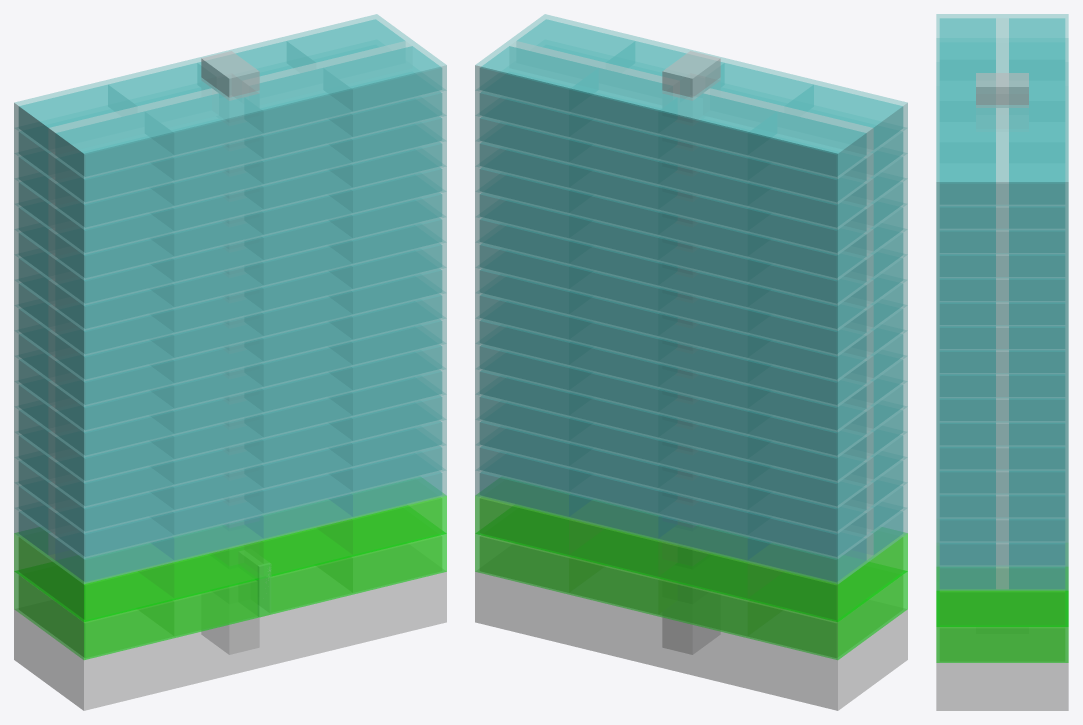
File: TowerElevation.glb
3 views of the same model, side by side, from view 1: azimuth 30°, elevation 25°; view 2: azimuth 150°, elevation 25°; view 3: azimuth 270°, elevation 25° (orthographic). The views are drawn at different scales.
Parts seen in each view (by area): view 1: 3586_mesh, 3022_mesh, 3043_mesh, 3025_mesh, 3058_mesh, 3124_mesh, 3157_mesh, 3553_mesh, 3223_mesh, 3256_mesh, 3355_mesh, 3487_mesh (+92 smaller); view 2: 3586_mesh, 3022_mesh, 3025_mesh, 3043_mesh, 3058_mesh, 3124_mesh, 3157_mesh, 3553_mesh, 3223_mesh, 3256_mesh, 3355_mesh, 3487_mesh (+91 smaller); view 3: 3586_mesh, 3022_mesh, 3025_mesh, 3043_mesh, 3553_mesh, 3040_mesh, 3055_mesh, 3256_mesh, 3289_mesh, 3322_mesh, 3355_mesh, 3388_mesh (+69 smaller).
Part boxes in pixels (bbox=[...]): 3586_mesh: bbox=[14, 14, 446, 178]; 3022_mesh: bbox=[14, 569, 446, 710]; 3043_mesh: bbox=[14, 493, 446, 621]; 3025_mesh: bbox=[14, 531, 446, 659]; 3058_mesh: bbox=[14, 467, 446, 583]; 3124_mesh: bbox=[14, 417, 446, 533]; 3157_mesh: bbox=[14, 392, 446, 507]; 3553_mesh: bbox=[14, 88, 446, 204]; 3223_mesh: bbox=[14, 341, 446, 457]; 3256_mesh: bbox=[14, 316, 446, 431]; 3355_mesh: bbox=[14, 240, 446, 355]; 3487_mesh: bbox=[14, 138, 446, 254]; 3586_mesh: bbox=[475, 14, 907, 178]; 3022_mesh: bbox=[475, 569, 907, 710]; 3025_mesh: bbox=[475, 531, 907, 659]; 3043_mesh: bbox=[475, 493, 907, 621]; 3058_mesh: bbox=[475, 467, 907, 583]; 3124_mesh: bbox=[475, 417, 907, 533]; 3157_mesh: bbox=[475, 392, 907, 507]; 3553_mesh: bbox=[475, 88, 907, 204]; 3223_mesh: bbox=[475, 341, 907, 457]; 3256_mesh: bbox=[475, 316, 907, 431]; 3355_mesh: bbox=[475, 240, 907, 355]; 3487_mesh: bbox=[475, 138, 907, 254]; 3586_mesh: bbox=[936, 14, 1068, 206]; 3022_mesh: bbox=[936, 627, 1068, 710]; 3025_mesh: bbox=[936, 591, 1068, 662]; 3043_mesh: bbox=[936, 567, 1068, 626]; 3553_mesh: bbox=[936, 38, 1068, 230]; 3040_mesh: bbox=[940, 627, 1064, 661]; 3055_mesh: bbox=[940, 591, 1064, 624]; 3256_mesh: bbox=[936, 398, 1068, 446]; 3289_mesh: bbox=[936, 374, 1068, 422]; 3322_mesh: bbox=[936, 350, 1068, 398]; 3355_mesh: bbox=[936, 326, 1068, 374]; 3388_mesh: bbox=[936, 302, 1068, 350].
Size of the model in its own units: 60 by 91 by 20.
